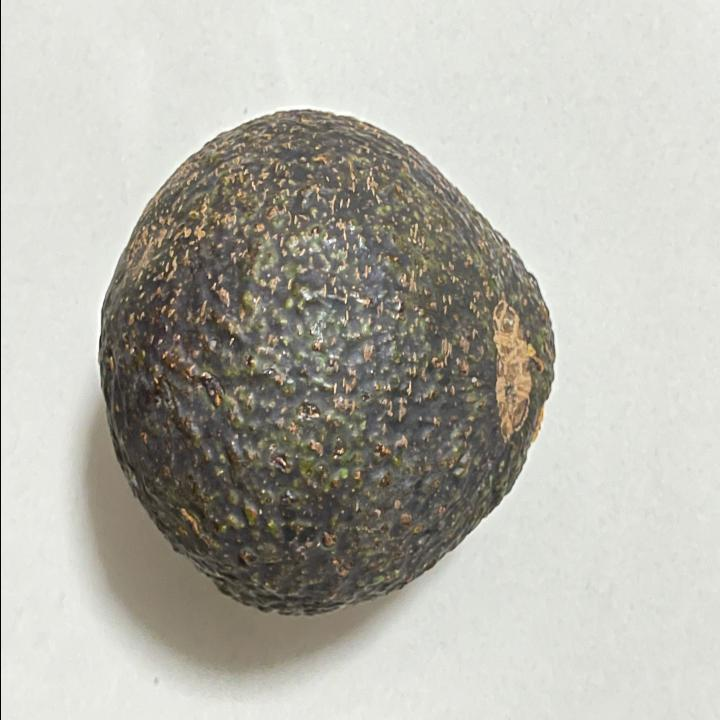Level1: (86, 91, 570, 632)
